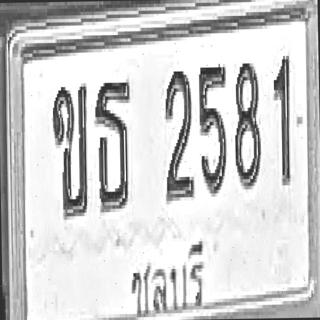A02: (50, 67, 92, 229)
A24: (90, 68, 139, 223)
N01: (271, 45, 296, 215)
N02: (158, 55, 198, 209)
N05: (192, 54, 232, 202)
N08: (231, 51, 263, 198)
P13: (114, 240, 217, 320)
